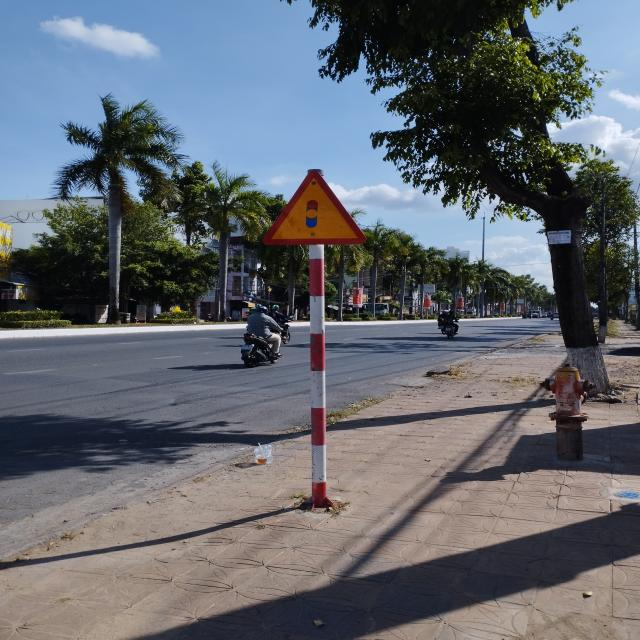Duong_Co_Go_Giam_Toc: (263, 169, 367, 245)
